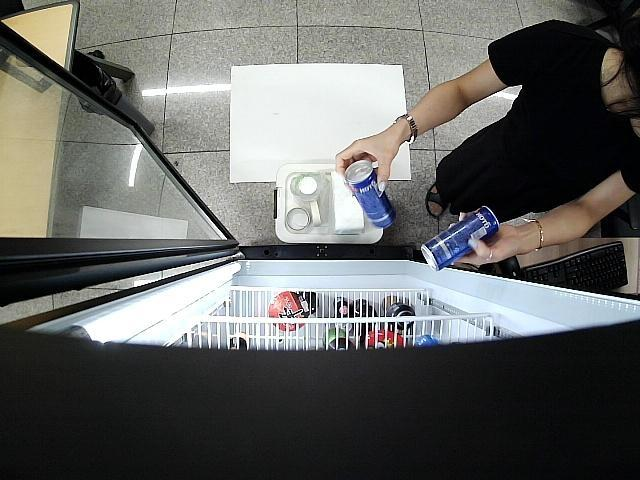16_hot6: (420, 206, 502, 268), (344, 158, 398, 232)
